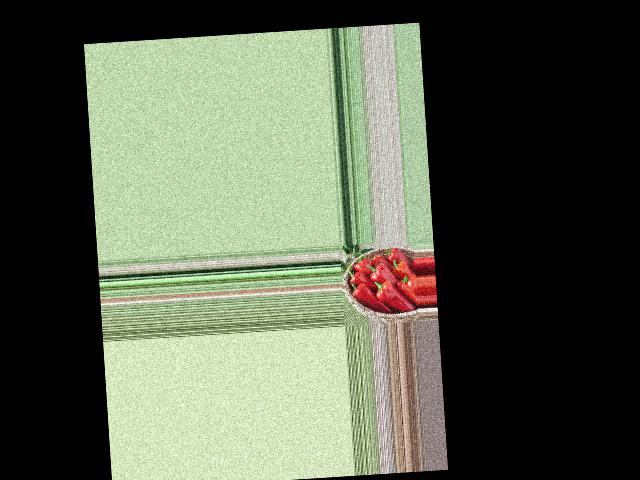bell_pepper: (346, 268, 368, 286)
